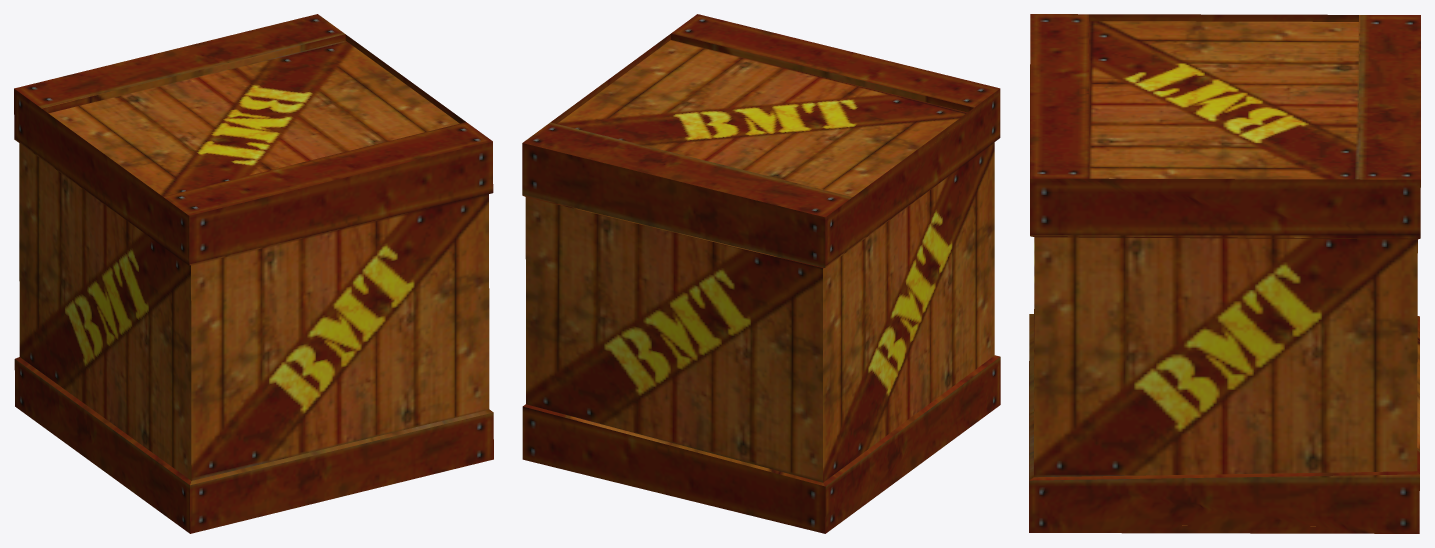
The model's file is icondel.icn.obj.
The picture shows the model from 3 angles, left to right: view 1: azimuth 30°, elevation 25°; view 2: azimuth 150°, elevation 25°; view 3: azimuth 270°, elevation 25°; orthographic projection. The views are drawn at different scales.
Size of the model in its own units: 1.88 by 1.89 by 1.89.
Materials: 1 (1 with a texture image).
